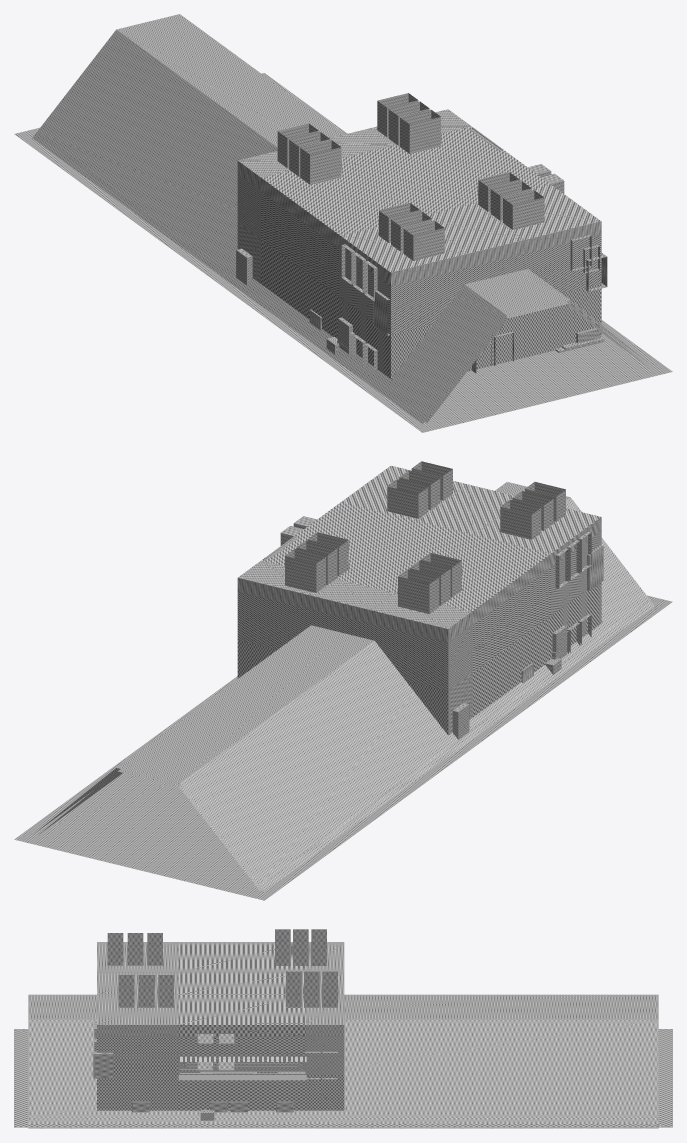
The picture shows the model from 3 angles, top to bottom: view 1: azimuth 30°, elevation 25°; view 2: azimuth 150°, elevation 25°; view 3: azimuth 270°, elevation 25°; orthographic projection. The views are drawn at different scales.
Visible parts, largest first — view 1: COF_Concrete_BG_Wall, COF_Concrete_AG_Shadow, COF_Concrete_AG, COF_Concrete_BG_Floor; view 2: COF_Concrete_BG_Wall, COF_Concrete_AG_Shadow, COF_Concrete_BG_Floor, COF_Concrete_AG; view 3: COF_Concrete_BG_Wall, COF_Concrete_AG_Shadow, COF_Concrete_AG, COF_Concrete_BG_Floor, COF_Concrete_AG_Wall, COF_Concrete_AG_Glow.
Part boxes in pixels (x1,y1,x2,y2): COF_Concrete_BG_Wall: (32, 14, 652, 423); COF_Concrete_AG_Shadow: (237, 109, 601, 378); COF_Concrete_AG: (236, 93, 607, 379); COF_Concrete_BG_Floor: (14, 73, 672, 432); COF_Concrete_BG_Wall: (35, 482, 654, 891); COF_Concrete_AG_Shadow: (237, 465, 601, 735); COF_Concrete_BG_Floor: (14, 595, 672, 900); COF_Concrete_AG: (264, 461, 603, 739); COF_Concrete_BG_Wall: (28, 994, 658, 1128); COF_Concrete_AG_Shadow: (97, 942, 344, 1110); COF_Concrete_AG: (93, 929, 337, 1120); COF_Concrete_BG_Floor: (14, 1029, 672, 1127); COF_Concrete_AG_Wall: (178, 1062, 306, 1074); COF_Concrete_AG_Glow: (184, 1062, 300, 1068).
Size of the model in its own units: 168 by 106 by 464.
